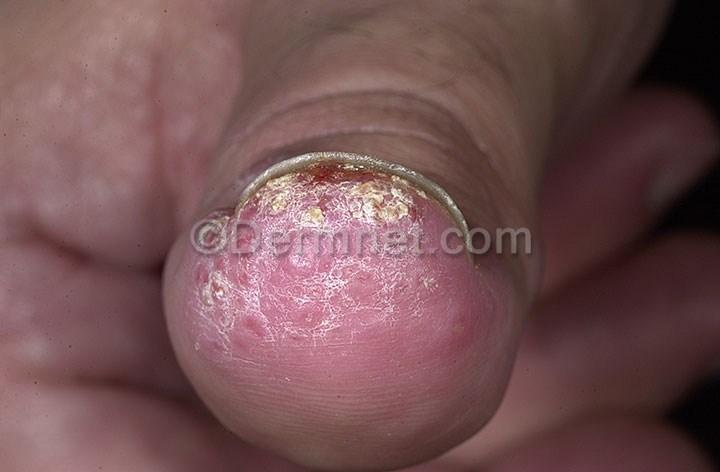Eczema: (213, 150, 461, 336)
